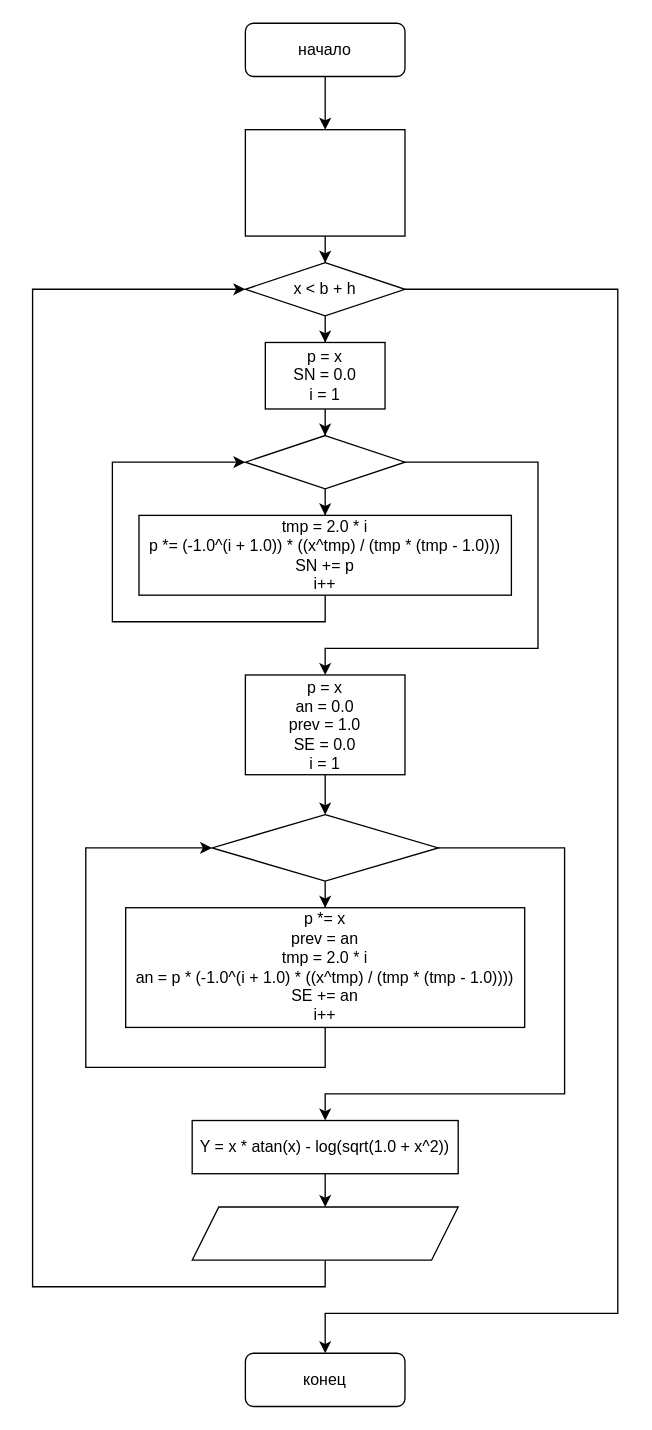
The diagram is 652 pixels wide and 1430 high, and some of its shapes have lost their labels. Each missing label, with the centre of its shape:
"a = 0.1 b = 0.8 h = (b - a) / k an, p, prev, SN, SE, Y, i" goes at pixel 324 182.
"abs(prev - an) > 0.0001" goes at pixel 324 847.
"i <= n" goes at pixel 324 461.
"вывод x, SN, SE, Y" goes at pixel 324 1233.
